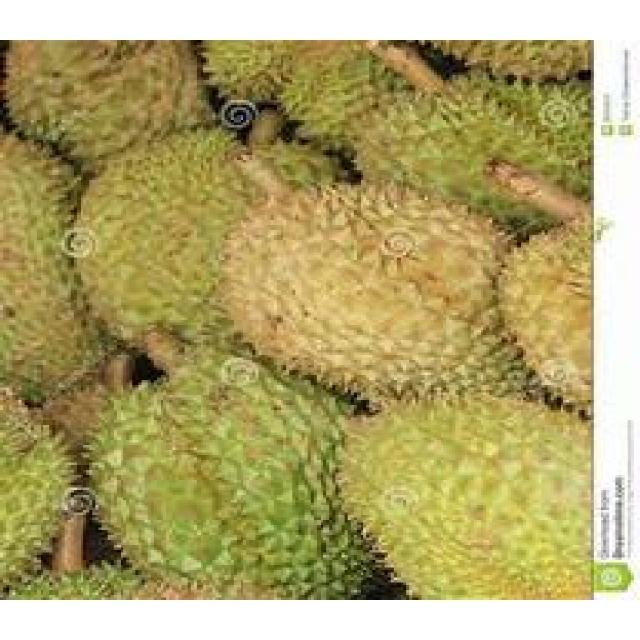fruit: (0, 105, 120, 427), (0, 370, 102, 595)
